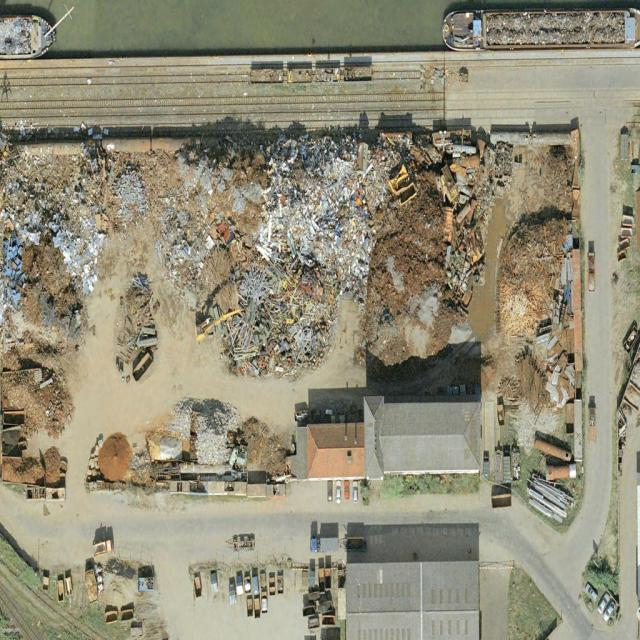dump_site: (170, 141, 397, 387), (1, 139, 107, 376), (391, 138, 495, 339), (496, 209, 577, 409), (147, 404, 289, 480), (102, 147, 173, 243), (113, 270, 157, 386), (0, 18, 34, 53)
